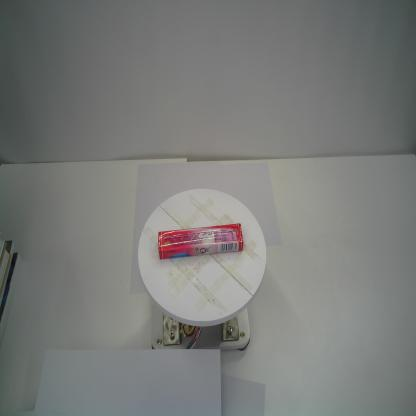Candy: (156, 219, 244, 260)
